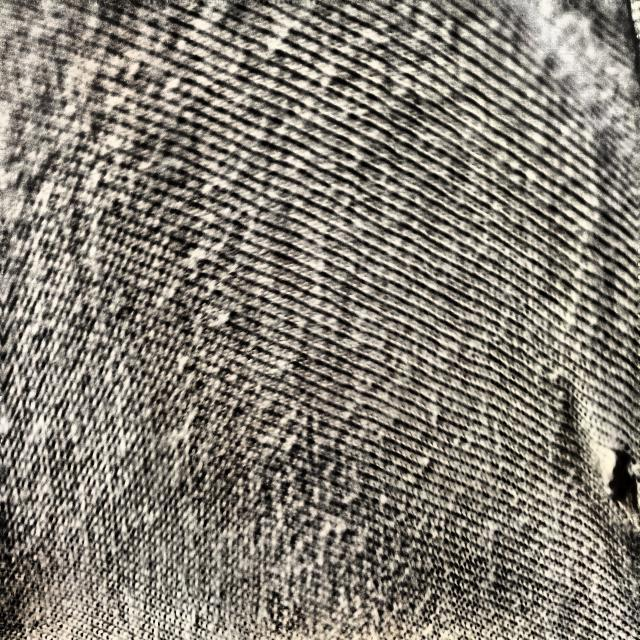cut: (591, 428, 640, 542)
